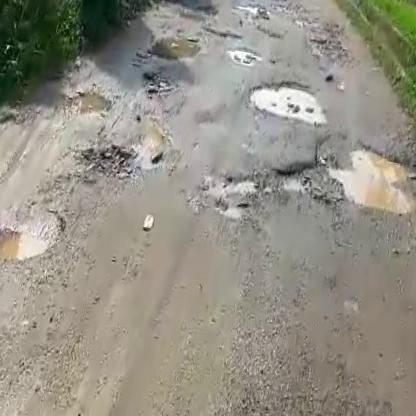pothole: (282, 125, 416, 222), (0, 188, 71, 274), (244, 69, 333, 127), (72, 133, 146, 187), (195, 168, 262, 227), (67, 84, 113, 119), (225, 42, 261, 65)
